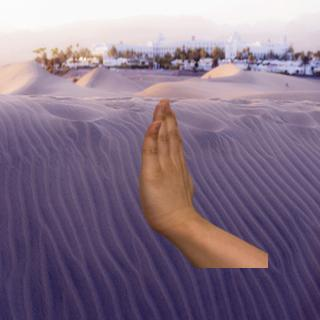RIGHT: (132, 93, 210, 245)
